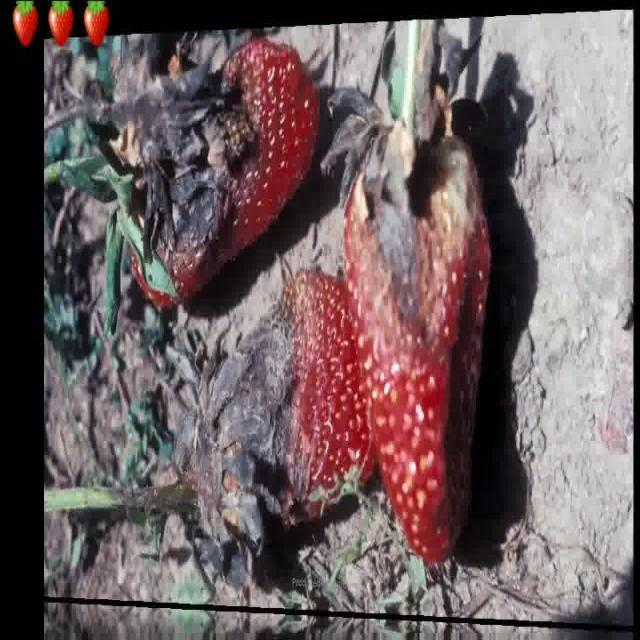Moho gris: (332, 89, 528, 567), (175, 272, 376, 558), (125, 44, 319, 290)
